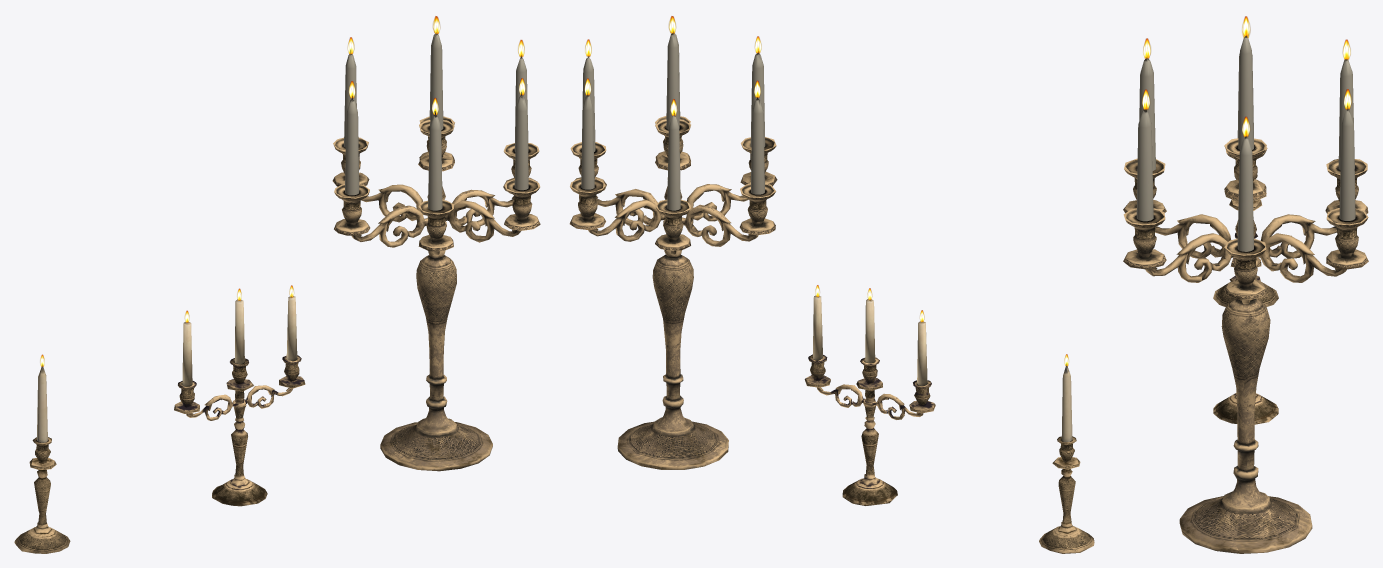
File: brass_candleholders.glb
3 views of the same model, side by side, from view 1: azimuth 30°, elevation 25°; view 2: azimuth 150°, elevation 25°; view 3: azimuth 270°, elevation 25° (orthographic). The views are drawn at different scales.
Visible parts, largest first — view 1: brass_candleholder_03, brass_candleholder_02, brass_candleholder_01; view 2: brass_candleholder_03, brass_candleholder_02, brass_candleholder_01; view 3: brass_candleholder_03, brass_candleholder_02, brass_candleholder_01.
Part boxes in pixels (box(x1,y1,x2,y2)): brass_candleholder_03: box(332, 16, 540, 471); brass_candleholder_02: box(174, 285, 305, 506); brass_candleholder_01: box(14, 354, 70, 553); brass_candleholder_03: box(569, 16, 777, 469); brass_candleholder_02: box(804, 285, 935, 505); brass_candleholder_01: box(1039, 354, 1094, 553); brass_candleholder_03: box(1123, 16, 1368, 553); brass_candleholder_02: box(1213, 233, 1278, 424); brass_candleholder_01: box(1213, 175, 1278, 306).
Bounding box in the file's own units: 1.05 × 0.8353 × 0.3652.
Materials: 5 (5 with a texture image).
